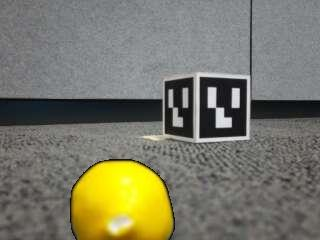lemon: (72, 160, 174, 240)
